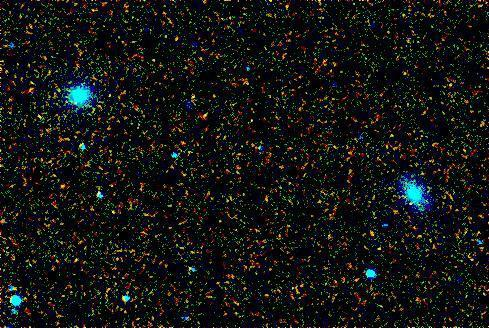star: (100, 197, 130, 227)
